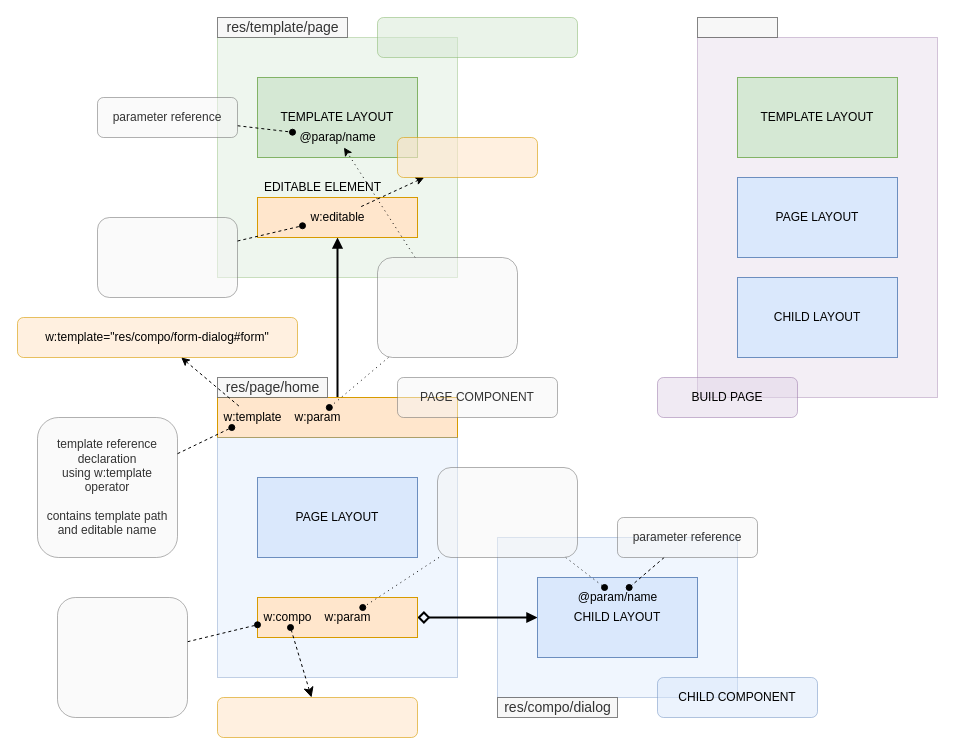
The diagram is 955 pixels wide and 755 high, and some of its shapes have lost their labels. Each missing label, with the centre of its shape:
child parameters definition using w:param operator: [507,512]
child reference declaration using w:compo operator contains child component path: [122,657]
editable region declared with w:editable operator: [167,257]
home.htm: [737,27]
TEMPLATE COMPONENT: [477,37]
template parameters definition using w:param operator: [447,307]
w:compo="res/compo/dialog": [317,717]
w:editable="form": [467,157]
